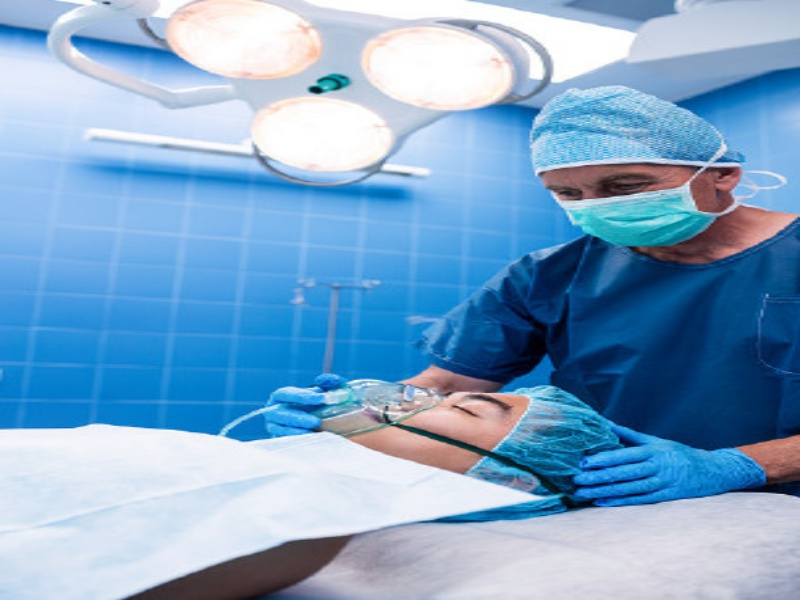mask: (537, 96, 750, 243)
